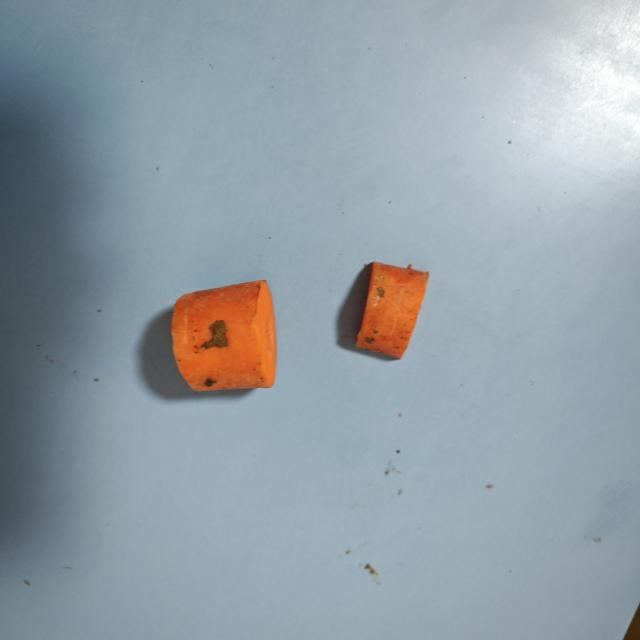-Kitchen waste - carrot-: (169, 280, 278, 396), (352, 262, 426, 359)
